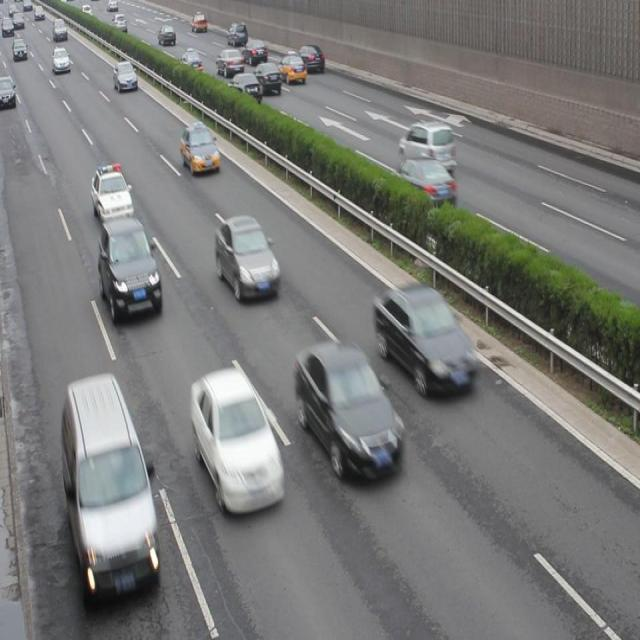car: (296, 340, 403, 477), (191, 367, 283, 515), (373, 281, 475, 397), (98, 218, 162, 320), (214, 214, 280, 300), (394, 155, 455, 211), (399, 118, 456, 172), (92, 164, 134, 228), (179, 121, 220, 176), (226, 71, 261, 107), (250, 60, 281, 95), (294, 42, 324, 74), (276, 53, 305, 86)
truck: (61, 374, 158, 592)
